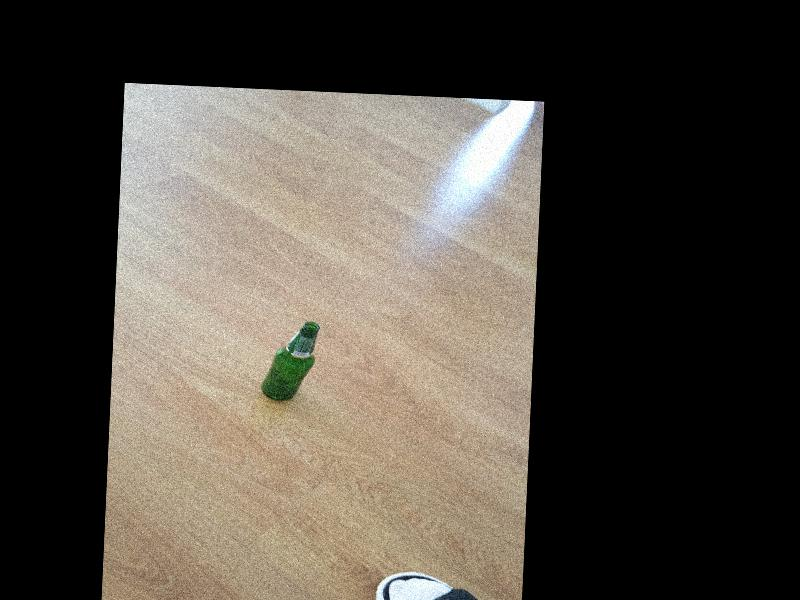Beer: (263, 321, 319, 402)
